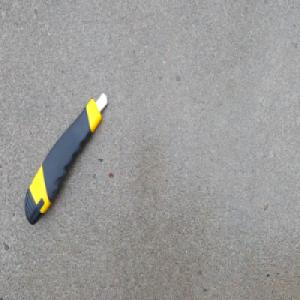Cutter: (25, 90, 109, 227)
